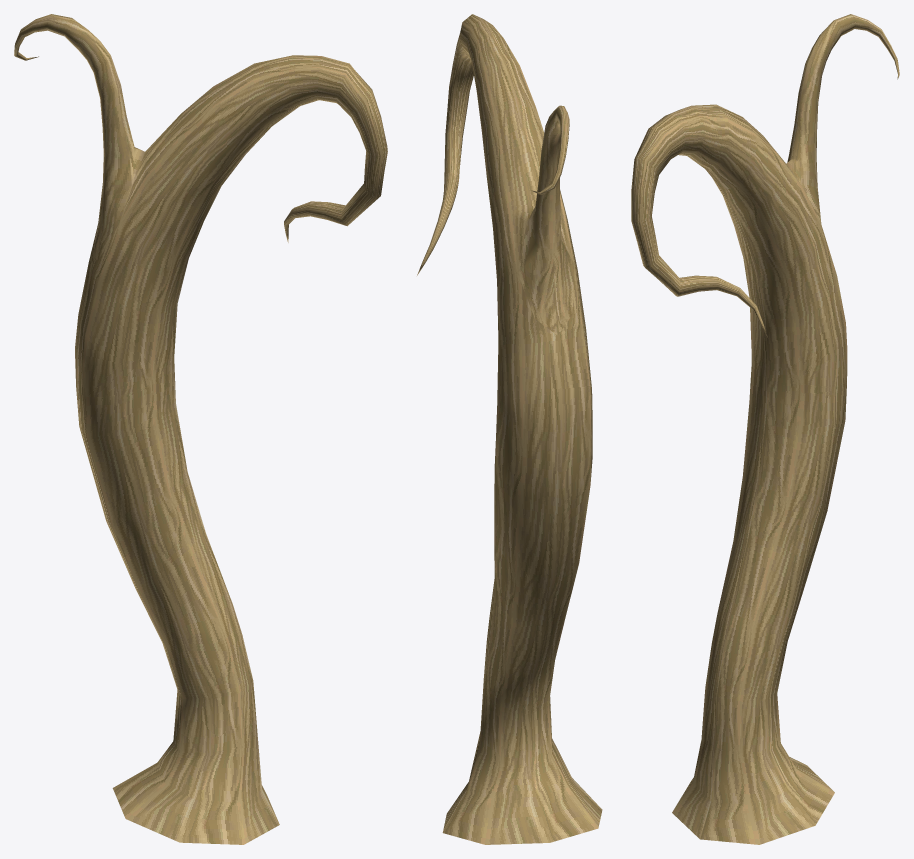
Rendered from EKH_BARRELROOM_PS_JA1_TREE03.fbx.
3 renders of one model, left to right at view 1: azimuth 30°, elevation 25°; view 2: azimuth 150°, elevation 25°; view 3: azimuth 270°, elevation 25°, orthographic. The views are drawn at different scales.
Parts seen in each view (by area): view 1: EKH_BARRELROOM_PS_JA1_TREE03; view 2: EKH_BARRELROOM_PS_JA1_TREE03; view 3: EKH_BARRELROOM_PS_JA1_TREE03.
Part boxes in pixels (left/top/right/bottom): EKH_BARRELROOM_PS_JA1_TREE03: left=14, top=14, right=387, bottom=844; EKH_BARRELROOM_PS_JA1_TREE03: left=417, top=14, right=602, bottom=844; EKH_BARRELROOM_PS_JA1_TREE03: left=631, top=14, right=899, bottom=844.
Bounding box in the file's own units: 14283 × 44403 × 14314.
1 material, 1 textured.
